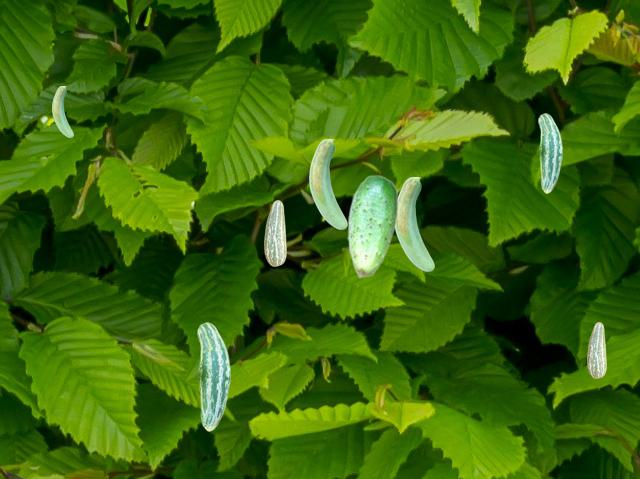cucumber: (347, 174, 397, 277), (395, 177, 433, 270), (197, 322, 229, 430), (309, 139, 346, 228), (538, 113, 561, 192), (264, 200, 285, 265), (52, 86, 72, 136), (587, 322, 605, 377)
